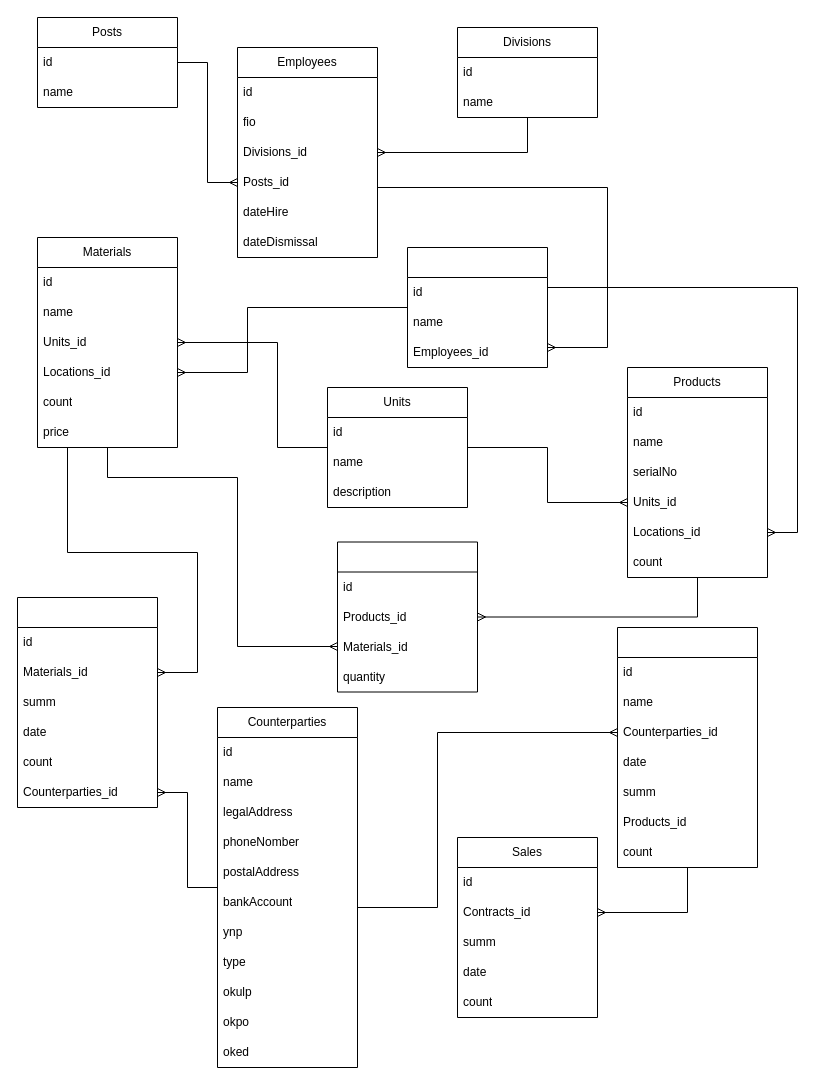
Image size: 823x1085. Some labels were removed from this diagram. The box of each missing label's shape, as (x1, y1, x2, y2) in pixels:
Contracts: (616, 626, 758, 868)
Locations: (406, 246, 548, 368)
Product_Materials: (336, 541, 478, 692)
Receipts: (16, 596, 158, 808)
